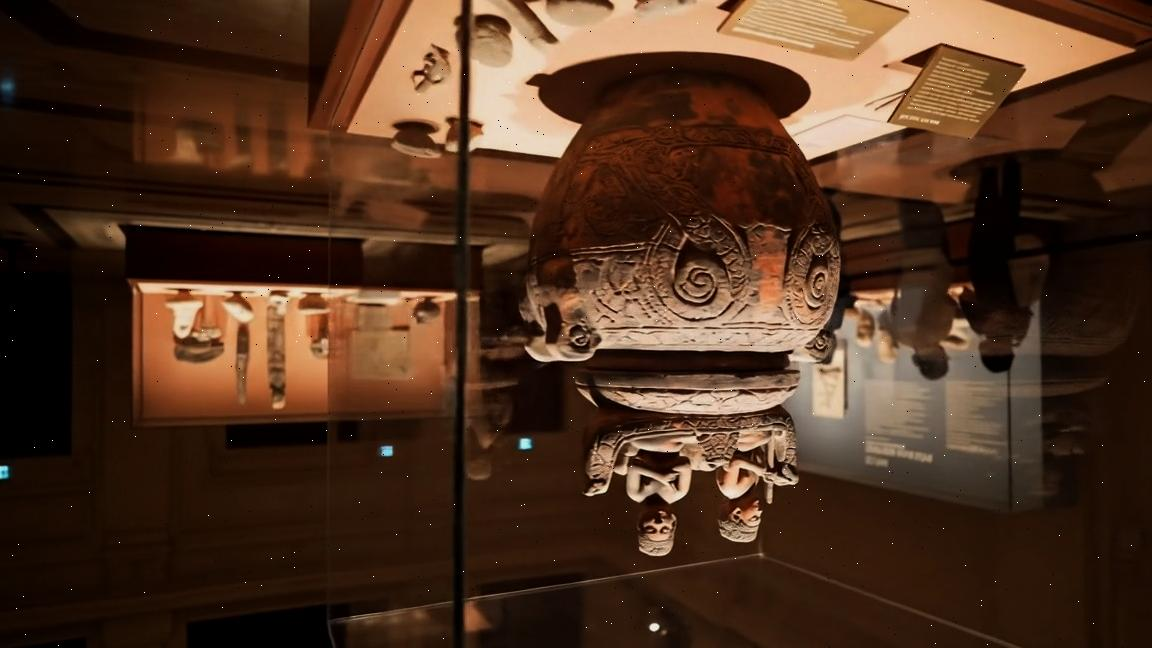manunggul_jar: (513, 60, 860, 572)
